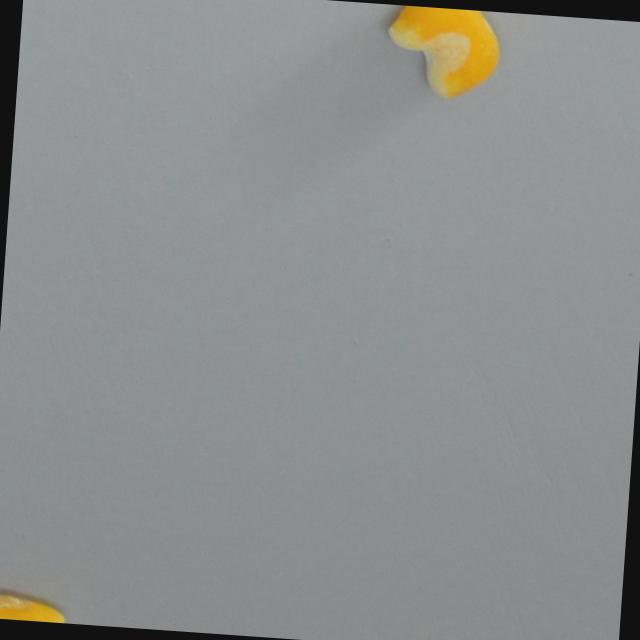no_canjicado: (382, 4, 502, 105)
